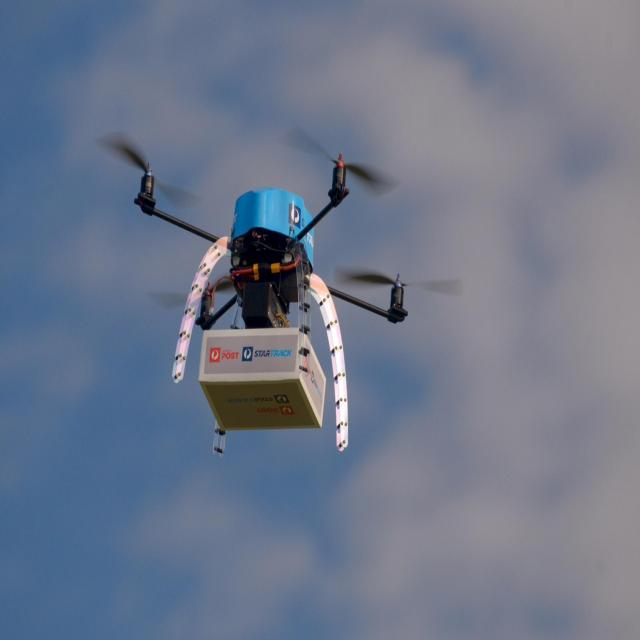UAV: (130, 147, 412, 462)
